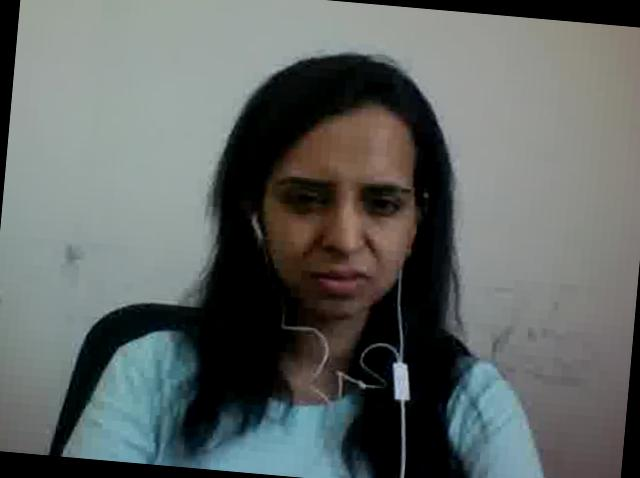bingung: (247, 107, 420, 332)
